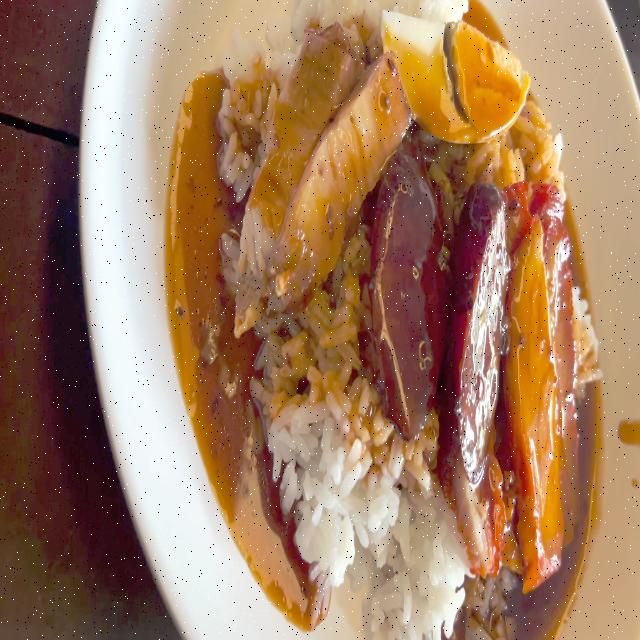boiled_egg: (382, 14, 527, 139)
chainese_sausage: (381, 162, 503, 456), (379, 170, 451, 422), (451, 204, 508, 456)
crispy_pork: (236, 36, 386, 320)
red_pork: (508, 190, 579, 564), (456, 484, 504, 564)
red_pork_and_crispy_pork: (215, 0, 601, 640)
rice: (266, 321, 384, 584), (378, 444, 456, 630)
